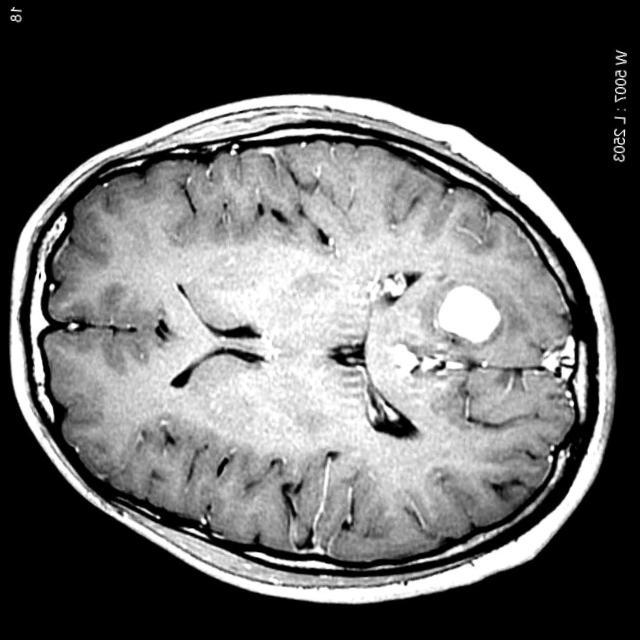Tumor: (438, 276, 502, 336)
